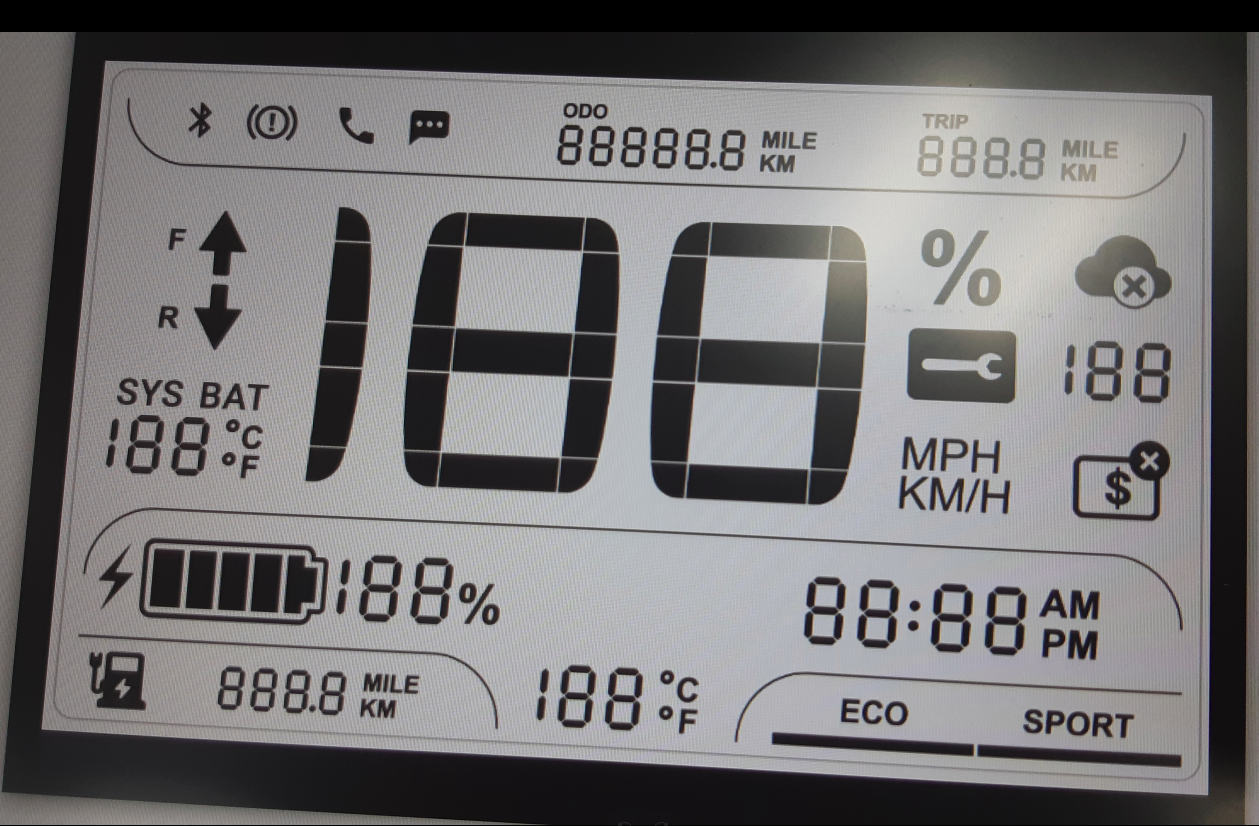bluetooth_on: (183, 97, 219, 142)
braking_on: (242, 99, 303, 145)
calling_on: (335, 104, 380, 148)
connection_lost: (1070, 231, 1177, 312)
error_code: (902, 323, 1021, 407)
low_battery: (85, 646, 154, 714)
sms_on: (404, 105, 456, 150)
vin_id: (1069, 436, 1174, 525)
